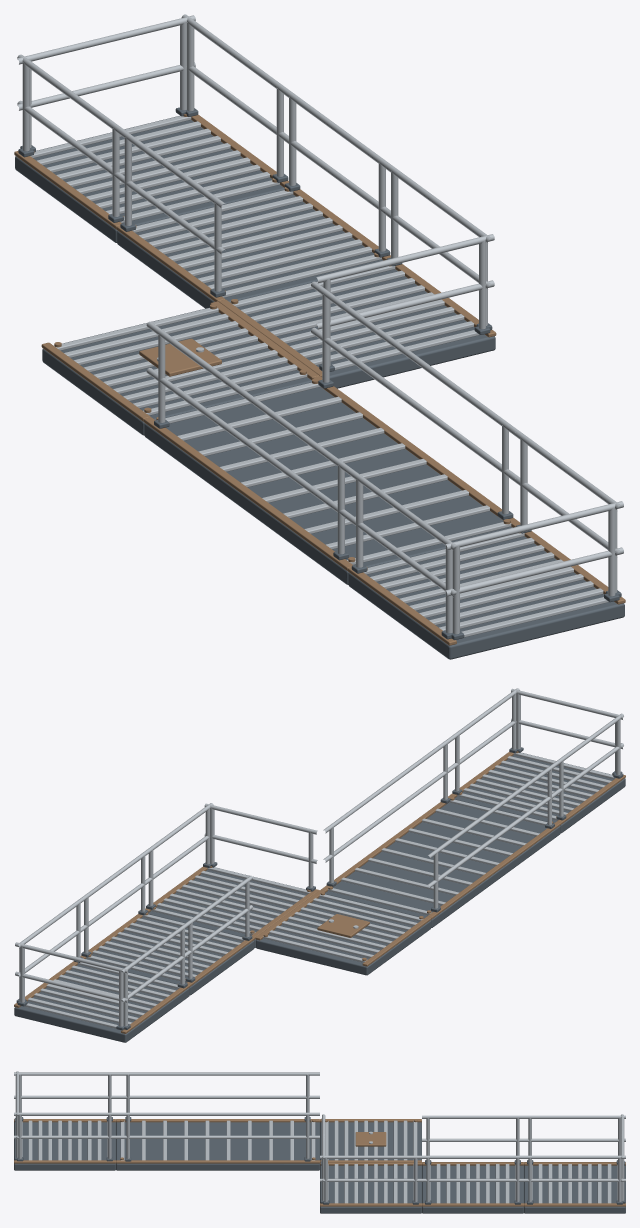
The model's file is arena-shooter-map-kit-catwalk-join-study-4153dab6__23157.glb.
3 views of the same model, one above another, from view 1: azimuth 30°, elevation 25°; view 2: azimuth 150°, elevation 25°; view 3: azimuth 270°, elevation 25° (orthographic). The views are drawn at different scales.
Visible parts, largest first — view 1: 004-bridge-span/0, 004-bridge-span/1, 005-catwalk-end/1, 000-catwalk-end/1, 001-catwalk-straight/1, 002-catwalk-corner/1, 005-catwalk-end/0, 003-catwalk-junction/1, 001-catwalk-straight/0, 002-catwalk-corner/0, 000-catwalk-end/0, 003-catwalk-junction/0 (+6 smaller); view 2: 004-bridge-span/0, 004-bridge-span/1, 005-catwalk-end/1, 000-catwalk-end/1, 002-catwalk-corner/1, 001-catwalk-straight/1, 003-catwalk-junction/1, 000-catwalk-end/0, 003-catwalk-junction/0, 005-catwalk-end/0, 001-catwalk-straight/0, 002-catwalk-corner/0 (+6 smaller); view 3: 004-bridge-span/0, 004-bridge-span/1, 005-catwalk-end/1, 000-catwalk-end/1, 001-catwalk-straight/1, 001-catwalk-straight/0, 005-catwalk-end/0, 000-catwalk-end/0, 002-catwalk-corner/0, 002-catwalk-corner/1, 003-catwalk-junction/0, 004-bridge-span/2 (+6 smaller).
Boxes of the visible parts, x1=… form: 004-bridge-span/0: x1=144, y1=380, x2=513, y2=584; 004-bridge-span/1: x1=146, y1=281, x2=518, y2=564; 005-catwalk-end/1: x1=350, y1=431, x2=623, y2=637; 000-catwalk-end/1: x1=17, y1=14, x2=287, y2=223; 001-catwalk-straight/1: x1=119, y1=89, x2=389, y2=297; 002-catwalk-corner/1: x1=231, y1=163, x2=494, y2=370; 005-catwalk-end/0: x1=348, y1=524, x2=624, y2=659; 003-catwalk-junction/1: x1=54, y1=308, x2=307, y2=415; 001-catwalk-straight/0: x1=117, y1=183, x2=390, y2=308; 002-catwalk-corner/0: x1=237, y1=257, x2=495, y2=388; 000-catwalk-end/0: x1=15, y1=107, x2=288, y2=242; 003-catwalk-junction/0: x1=42, y1=307, x2=311, y2=435; 004-bridge-span/0: x1=325, y1=798, x2=560, y2=927; 004-bridge-span/1: x1=323, y1=735, x2=559, y2=915; 005-catwalk-end/1: x1=452, y1=688, x2=623, y2=820; 000-catwalk-end/1: x1=15, y1=897, x2=188, y2=1028; 002-catwalk-corner/1: x1=146, y1=803, x2=317, y2=935; 001-catwalk-straight/1: x1=82, y1=850, x2=252, y2=982; 003-catwalk-junction/1: x1=263, y1=894, x2=422, y2=962; 000-catwalk-end/0: x1=14, y1=957, x2=189, y2=1042; 003-catwalk-junction/0: x1=256, y1=894, x2=431, y2=975; 005-catwalk-end/0: x1=452, y1=747, x2=625, y2=833; 001-catwalk-straight/0: x1=81, y1=910, x2=254, y2=995; 002-catwalk-corner/0: x1=146, y1=862, x2=315, y2=947; 004-bridge-span/0: x1=116, y1=1117, x2=319, y2=1170; 004-bridge-span/1: x1=116, y1=1072, x2=319, y2=1160; 005-catwalk-end/1: x1=14, y1=1071, x2=115, y2=1160; 000-catwalk-end/1: x1=524, y1=1114, x2=625, y2=1203; 001-catwalk-straight/1: x1=422, y1=1115, x2=523, y2=1203; 001-catwalk-straight/0: x1=422, y1=1160, x2=523, y2=1213; 005-catwalk-end/0: x1=14, y1=1117, x2=115, y2=1170; 000-catwalk-end/0: x1=524, y1=1160, x2=625, y2=1213; 002-catwalk-corner/0: x1=320, y1=1161, x2=421, y2=1213; 002-catwalk-corner/1: x1=320, y1=1114, x2=421, y2=1203; 003-catwalk-junction/0: x1=320, y1=1122, x2=421, y2=1160; 004-bridge-span/2: x1=116, y1=1119, x2=319, y2=1163.
Size of the model in its own units: 4 by 1.23 by 12.
